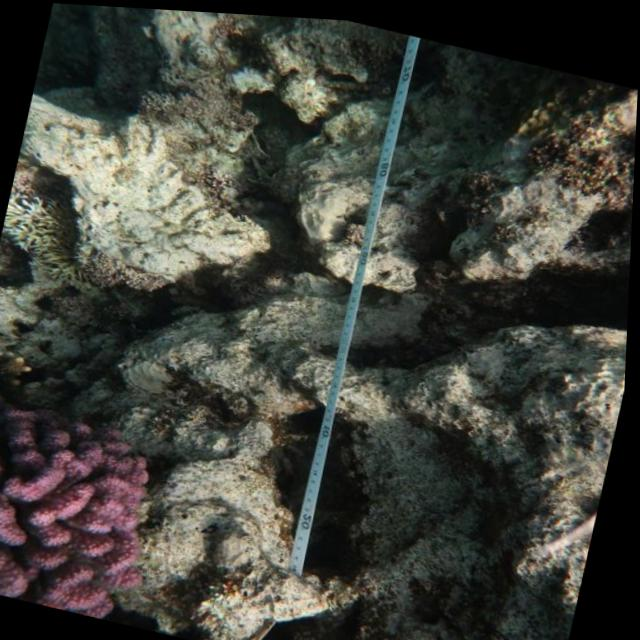Healthy Coral: (0, 386, 187, 626)
